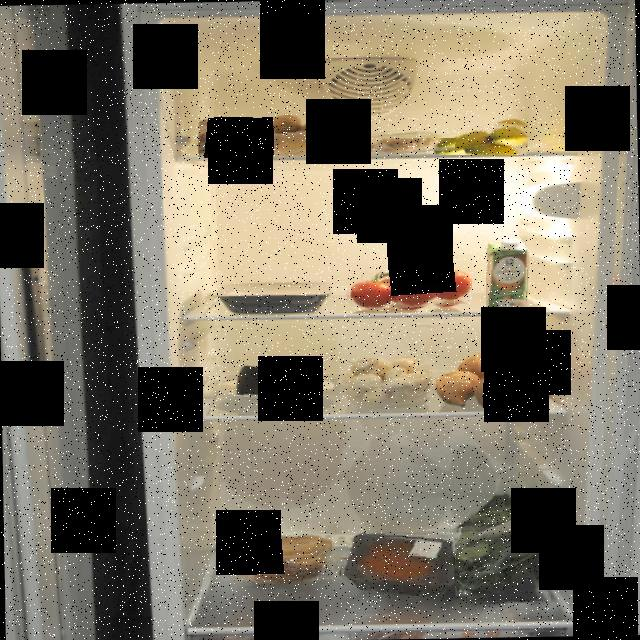banana: (434, 116, 530, 155)
beef: (336, 526, 455, 596)
bread: (230, 534, 332, 586)
cheese: (232, 363, 318, 397)
corn: (198, 117, 254, 159)
heavy_cream: (486, 237, 529, 310)
mushrooms: (340, 356, 432, 410)
potato: (244, 113, 358, 157)
shrimp: (354, 138, 456, 156)
spinach: (440, 486, 558, 601)
sweet_potato: (436, 346, 542, 408)
tomato: (340, 255, 472, 312)
